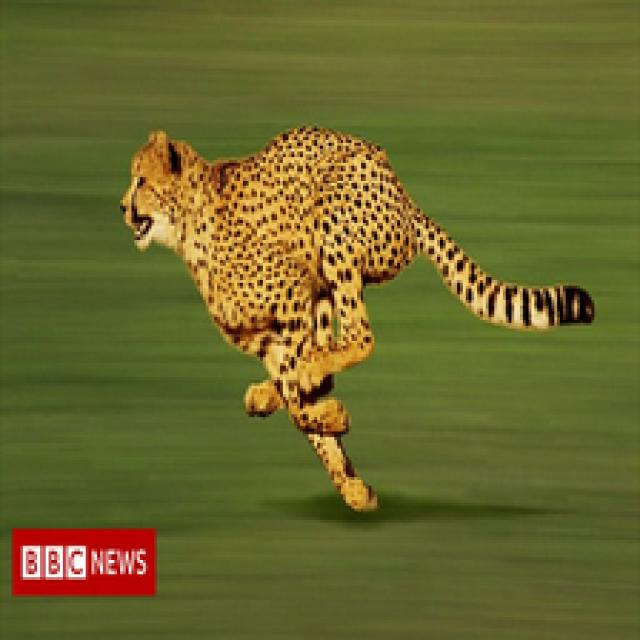cheetah: (117, 101, 597, 546)
